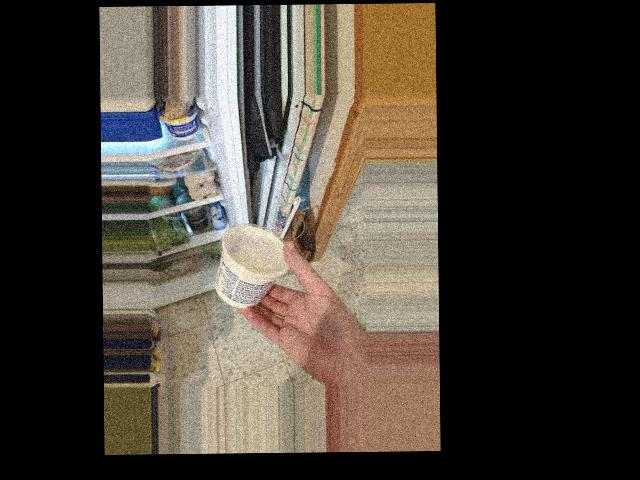cotage: (220, 224, 285, 311)
